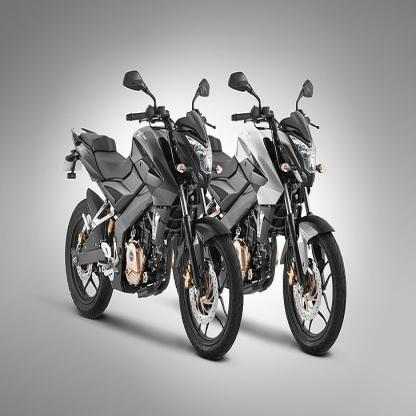bike: (63, 72, 245, 365), (245, 76, 350, 352)
